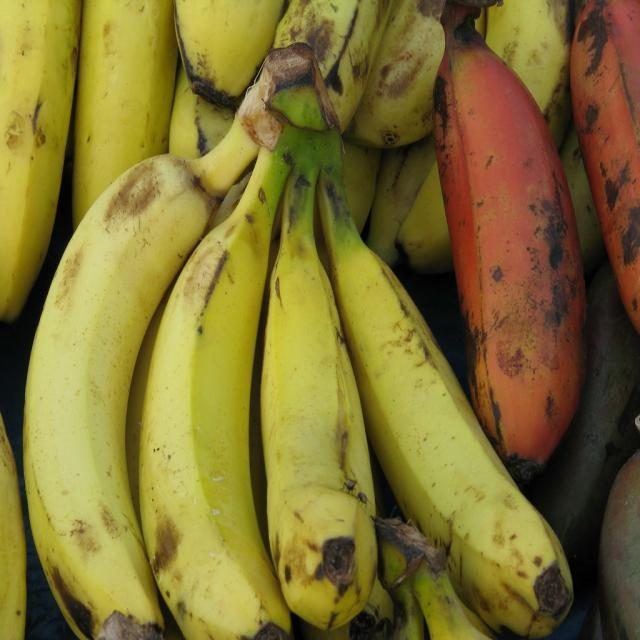Banana: (18, 46, 578, 640), (431, 7, 586, 464)
